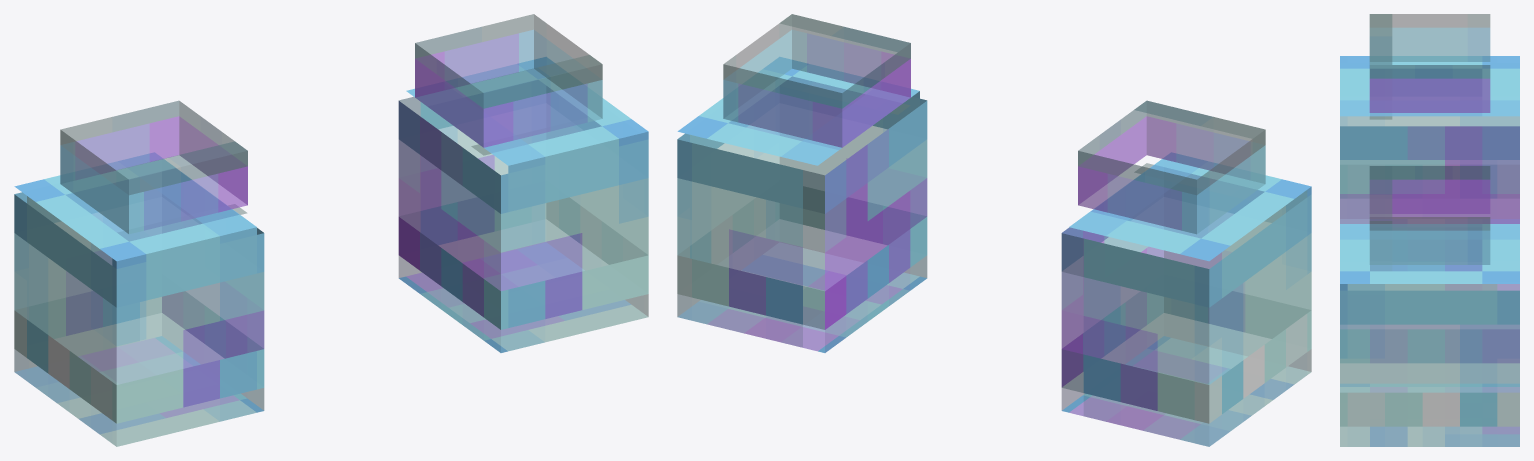
The model's file is sl_holo_fists.glb.
The picture shows the model from 3 angles, left to right: view 1: azimuth 30°, elevation 25°; view 2: azimuth 150°, elevation 25°; view 3: azimuth 270°, elevation 25°; orthographic projection. The views are drawn at different scales.
Visible parts, largest first — view 1: bb_holo_fists; view 2: bb_holo_fists; view 3: bb_holo_fists.
Part boxes in pixels (left/top/right/bottom): bb_holo_fists: left=14, top=14, right=648, bottom=446; bb_holo_fists: left=677, top=14, right=1311, bottom=446; bb_holo_fists: left=1340, top=14, right=1519, bottom=446.
Bounding box in the file's own units: 1.12 × 0.5006 × 0.375.
1 material, 1 textured.
